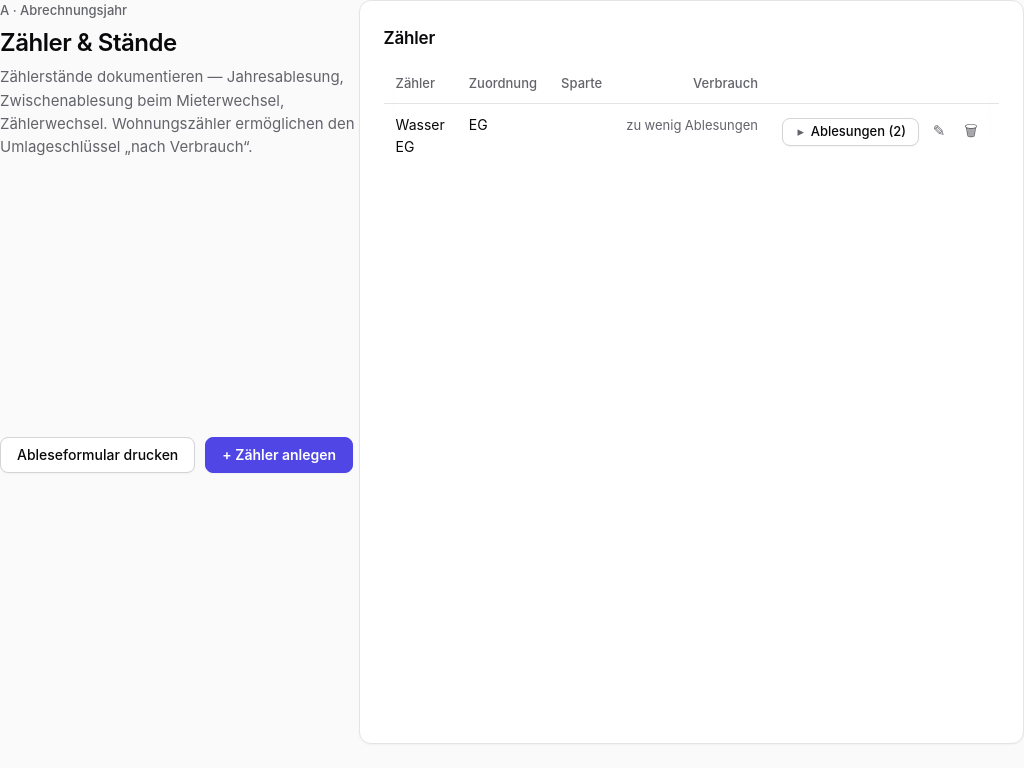
Test: Ablesung: das Fenster nennt den letzten Stand des Zählers
The width and height of the screenshot is (1024, 768).
Click the button "Ablesungen (2)".
click(851, 132)  # box [782,118,919,146]
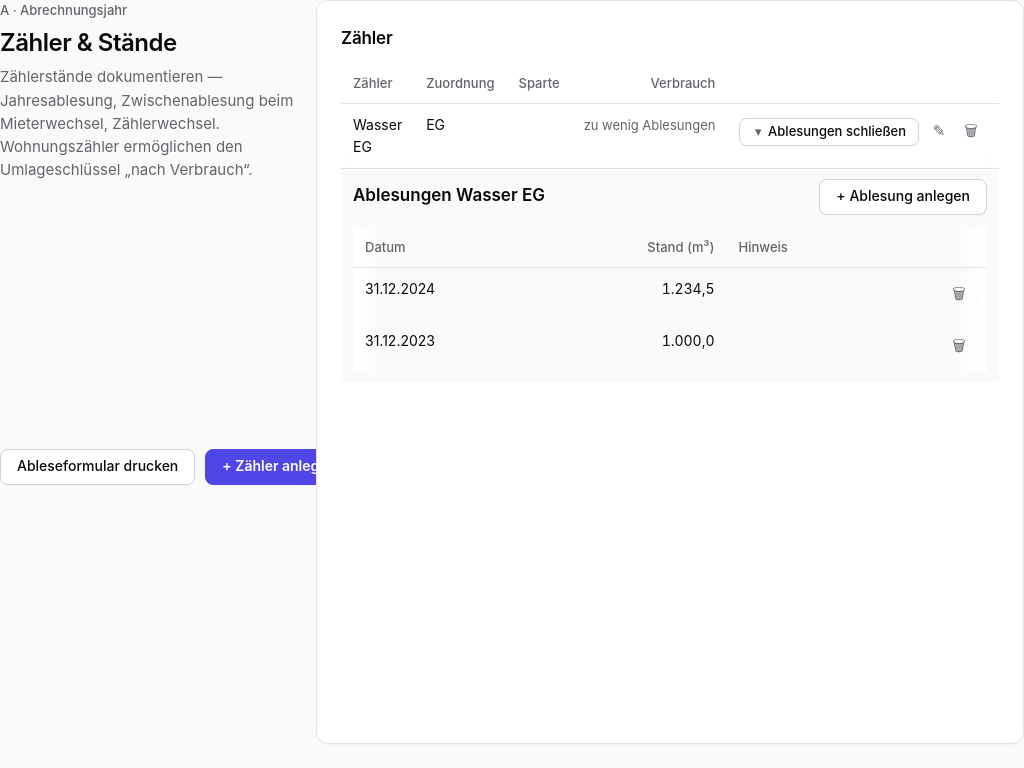
Click the button "+ Ablesung anlegen".
click(903, 197)  # box [819,179,987,215]
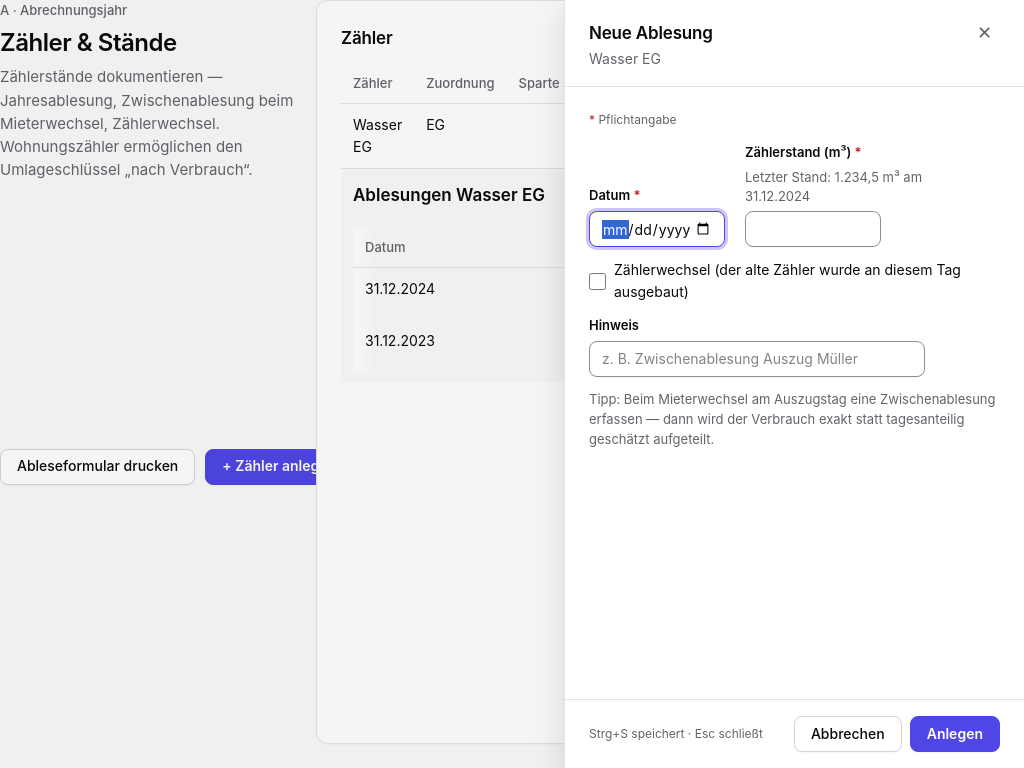
Now the text "Letzter Stand: 1.234,5 m³ am 31.12.2024" is shown, box [745,169,922,204]
